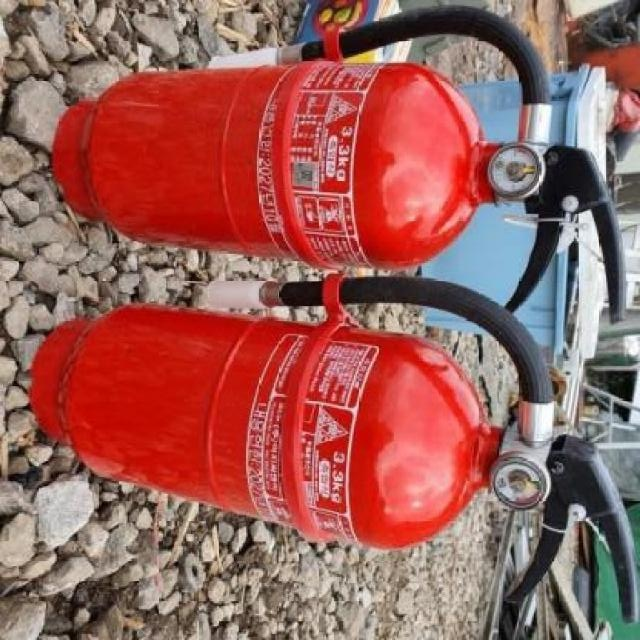fire extinguisher: (27, 270, 638, 627), (51, 4, 626, 325)
